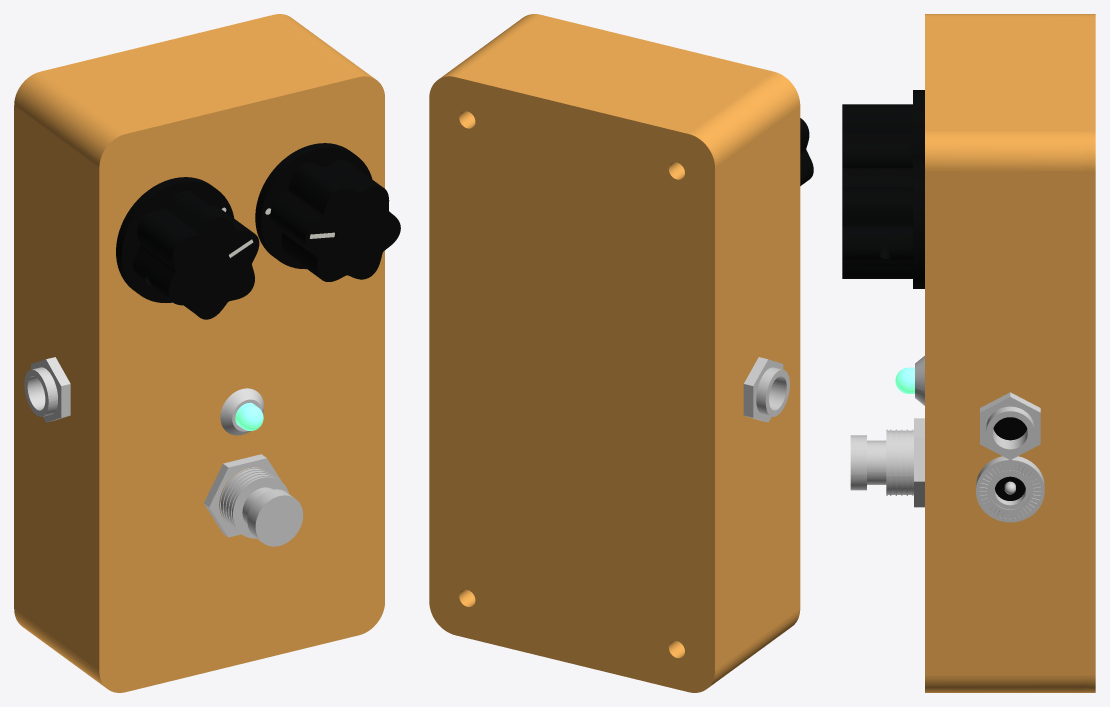
The model's file is stompbox-mxr-style-preview.glb.
3 renders of one model, left to right at view 1: azimuth 30°, elevation 25°; view 2: azimuth 150°, elevation 25°; view 3: azimuth 270°, elevation 25°, orthographic.
Parts seen in each view (by area): view 1: box-1590b/o1.1, knob-LEVEL/o1.1, knob-GAIN/o1.1, box-1590b/o1.2, switch-SW1/o1.3, switch-SW1/o1.2, switch-SW1/o1.1, jack-OUT/o1.2, jack-OUT/o1.1, led-LED1/o1.1, led-LED1/o1.2; view 2: box-1590b/o1.2, box-1590b/o1.1, jack-OUT/o1.2, jack-OUT/o1.1, knob-GAIN/o1.1; view 3: box-1590b/o1.1, knob-LEVEL/o1.1, box-1590b/o1.2, knob-GAIN/o1.1, power-9v/o1.1, switch-SW1/o1.3, switch-SW1/o1.2, jack-IN/o1.1, jack-IN/o1.2, switch-SW1/o1.1, hole-backing-jack-IN, hole-backing-power-9v (+2 smaller).
Part boxes in pixels (x1=…): box-1590b/o1.1: x1=19, y1=18, x2=384, y2=692; knob-LEVEL/o1.1: x1=255, y1=143, x2=400, y2=281; knob-GAIN/o1.1: x1=116, y1=177, x2=259, y2=319; box-1590b/o1.2: x1=14, y1=14, x2=294, y2=628; switch-SW1/o1.3: x1=242, y1=487, x2=303, y2=546; switch-SW1/o1.2: x1=219, y1=467, x2=288, y2=538; switch-SW1/o1.1: x1=204, y1=454, x2=282, y2=537; jack-OUT/o1.2: x1=24, y1=367, x2=57, y2=416; jack-OUT/o1.1: x1=31, y1=357, x2=70, y2=422; led-LED1/o1.1: x1=220, y1=388, x2=264, y2=435; led-LED1/o1.2: x1=235, y1=402, x2=263, y2=430; box-1590b/o1.2: x1=429, y1=72, x2=720, y2=692; box-1590b/o1.1: x1=445, y1=14, x2=800, y2=684; jack-OUT/o1.2: x1=756, y1=367, x2=789, y2=416; jack-OUT/o1.1: x1=743, y1=357, x2=783, y2=422; knob-GAIN/o1.1: x1=800, y1=118, x2=813, y2=185; box-1590b/o1.1: x1=925, y1=14, x2=1084, y2=692; knob-LEVEL/o1.1: x1=842, y1=158, x2=924, y2=288; box-1590b/o1.2: x1=1084, y1=14, x2=1095, y2=692; knob-GAIN/o1.1: x1=842, y1=90, x2=924, y2=167; power-9v/o1.1: x1=976, y1=456, x2=1044, y2=522; switch-SW1/o1.3: x1=850, y1=435, x2=886, y2=490; switch-SW1/o1.2: x1=886, y1=429, x2=913, y2=495; jack-IN/o1.1: x1=980, y1=392, x2=1040, y2=460; jack-IN/o1.2: x1=986, y1=406, x2=1034, y2=455; switch-SW1/o1.1: x1=914, y1=418, x2=924, y2=507; hole-backing-jack-IN: x1=993, y1=417, x2=1027, y2=440; hole-backing-power-9v: x1=995, y1=476, x2=1025, y2=500.
Size of what is drawn, in the model's own units: 68.5 by 112 by 46.
